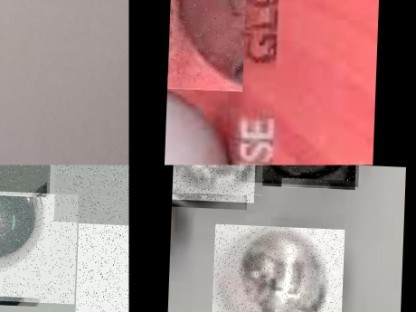ironball: (212, 222, 345, 311), (168, 0, 246, 89), (0, 188, 45, 276), (172, 165, 255, 200)
